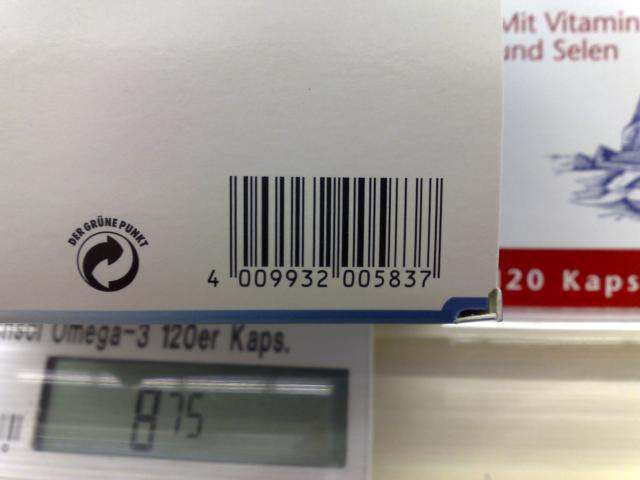Barkod: (224, 173, 446, 271)
